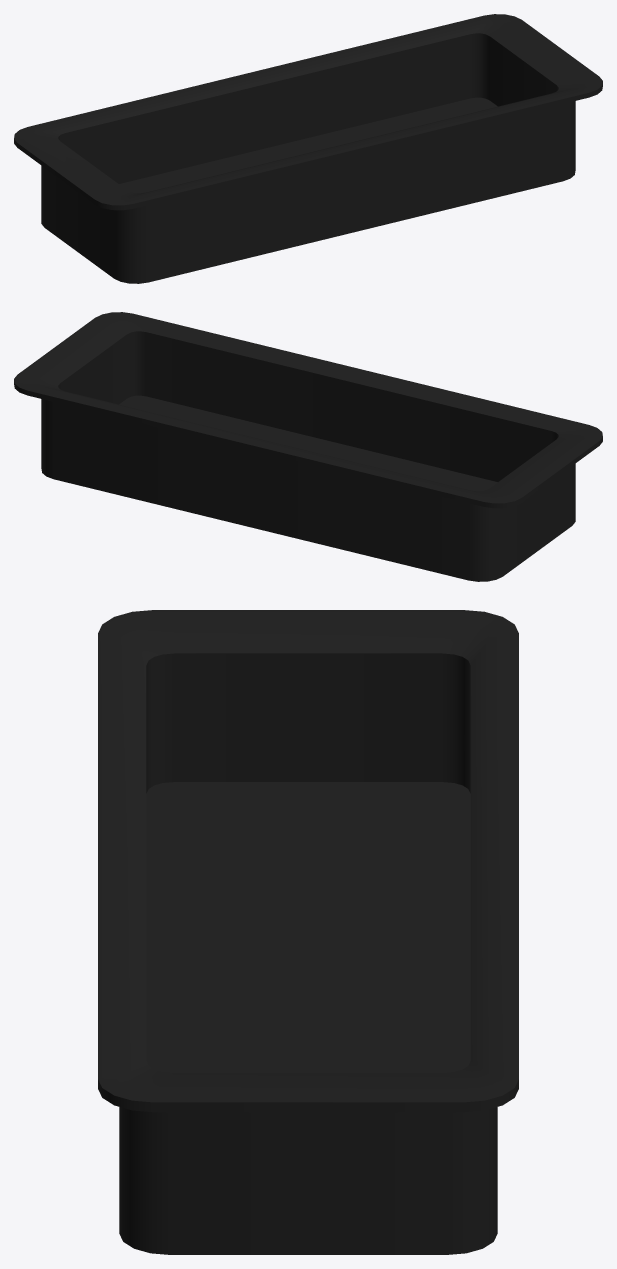
Rendered from tin_loaf.glb.
The picture shows the model from 3 angles, top to bottom: view 1: azimuth 30°, elevation 25°; view 2: azimuth 150°, elevation 25°; view 3: azimuth 270°, elevation 25°; orthographic projection. The views are drawn at different scales.
Visible parts, largest first — view 1: tin_loaf.001; view 2: tin_loaf.001; view 3: tin_loaf.001.
Part boxes in pixels (x1=…): tin_loaf.001: x1=14, y1=14, x2=602, y2=283; tin_loaf.001: x1=14, y1=312, x2=602, y2=581; tin_loaf.001: x1=98, y1=610, x2=518, y2=1254.
Size of the model in its own units: 0.3301 by 0.0547 by 0.1193.
Materials: 1 (1 with a texture image).
